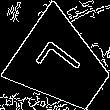L_SE: (34, 38, 90, 93)
